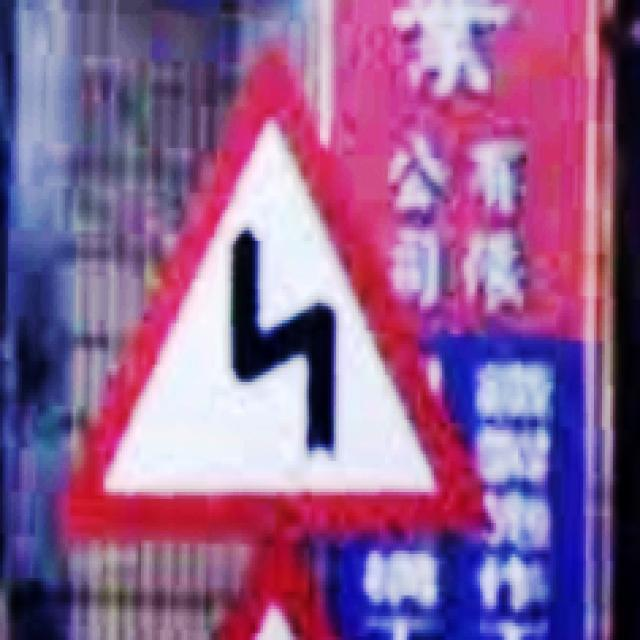doublebendleft: (65, 69, 488, 537)
